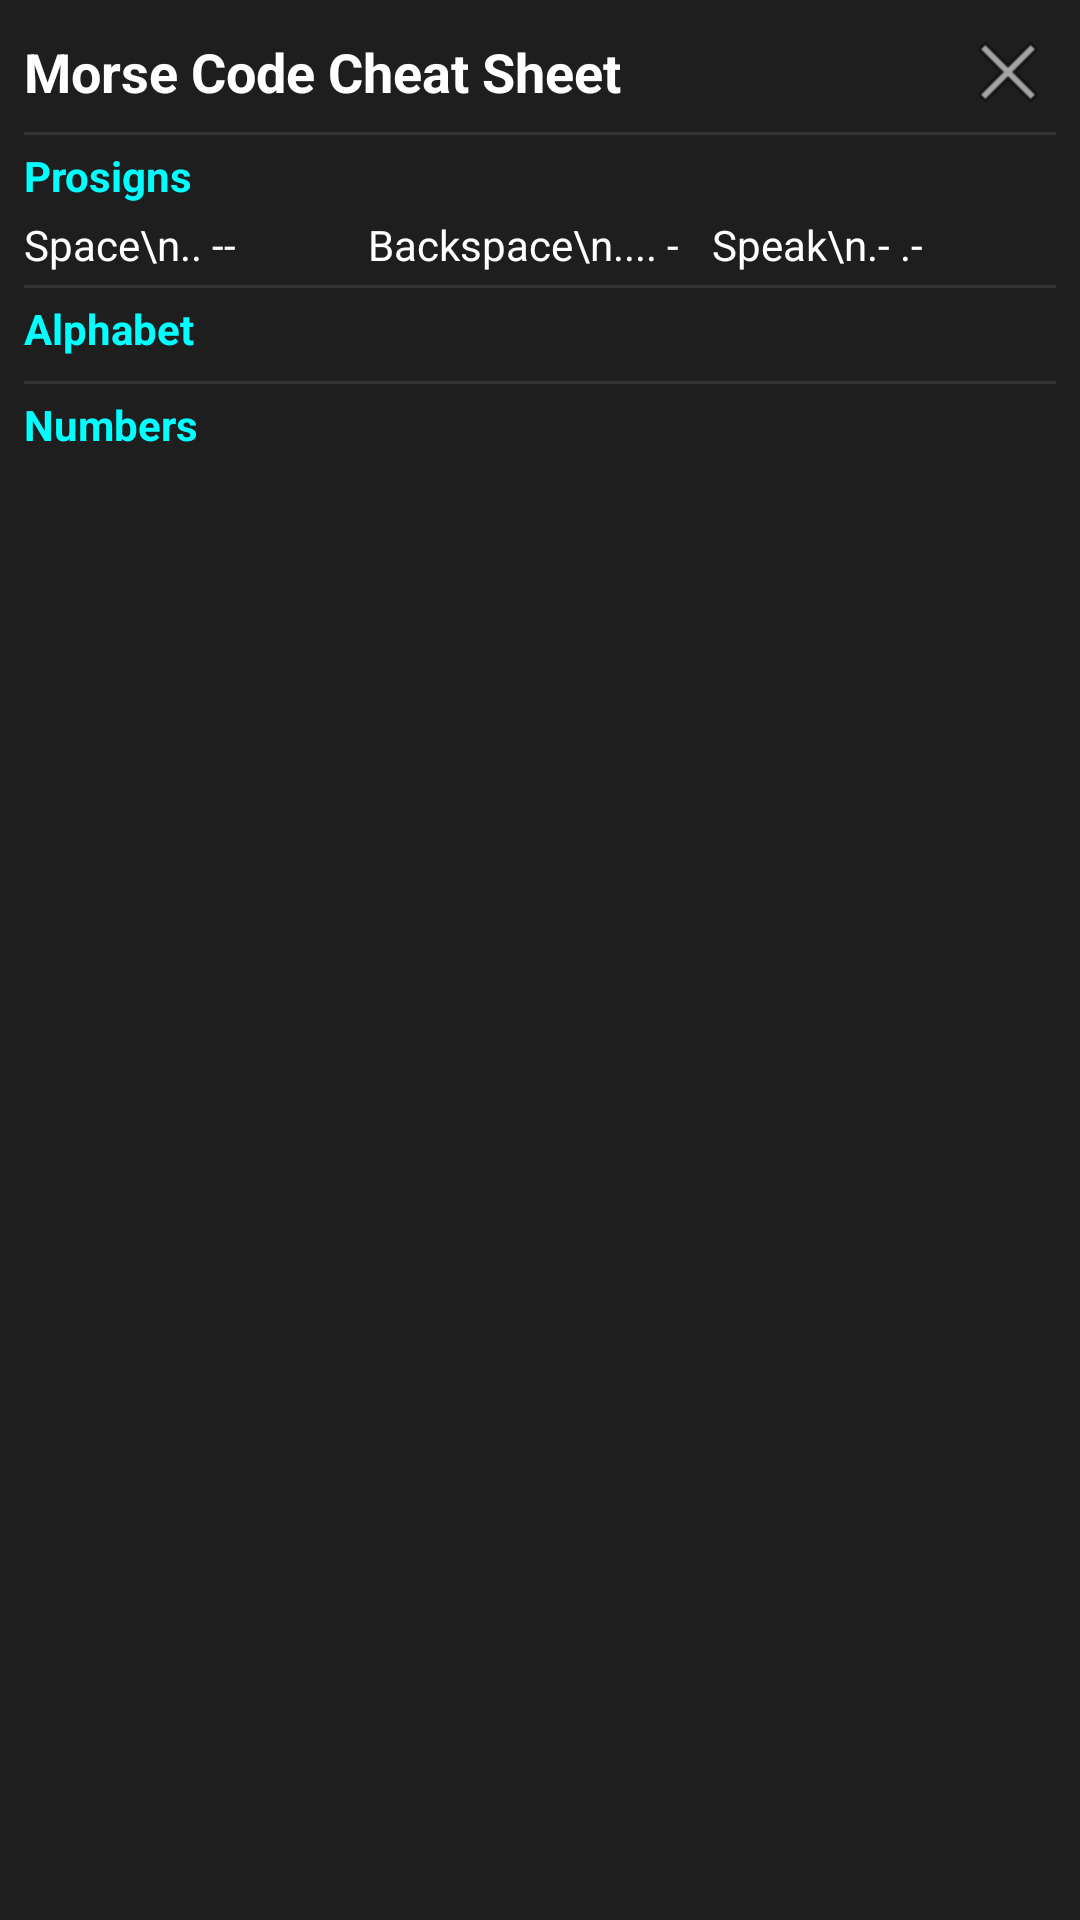

Screen size 1080×1920. Icon name, then its box in pixels as (x1, y1, x2, y2):
Close: (981, 45, 1035, 99)
